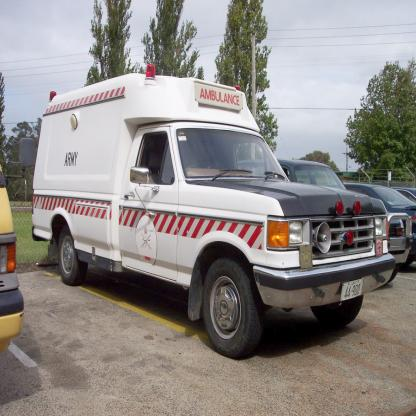Ambulance: (32, 62, 396, 353)
